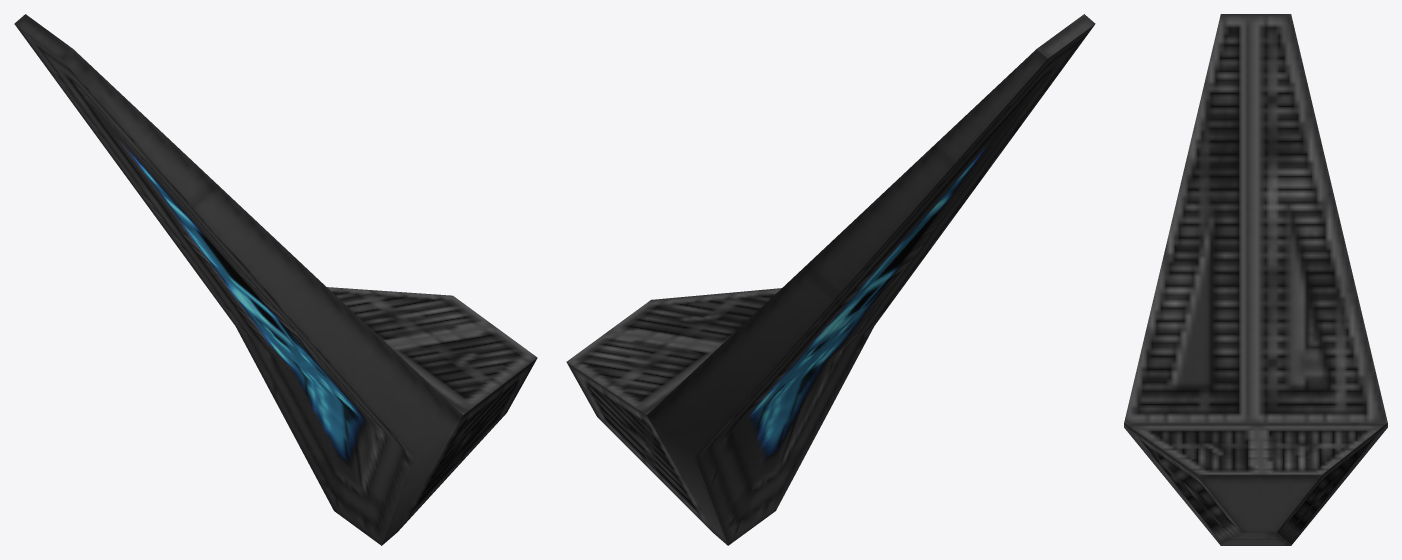
File: BFP_JG_EnergyPanel01_UpperRight.FBX
3 renders of one model, left to right at view 1: azimuth 30°, elevation 25°; view 2: azimuth 150°, elevation 25°; view 3: azimuth 270°, elevation 25°, orthographic. The views are drawn at different scales.
Parts seen in each view (by area): view 1: BFP_JG_EnergyPanel01_UpperRight; view 2: BFP_JG_EnergyPanel01_UpperRight; view 3: BFP_JG_EnergyPanel01_UpperRight.
Part boxes in pixels (left/top/right/bottom): BFP_JG_EnergyPanel01_UpperRight: left=14, top=14, right=537, bottom=545; BFP_JG_EnergyPanel01_UpperRight: left=566, top=14, right=1095, bottom=545; BFP_JG_EnergyPanel01_UpperRight: left=1124, top=14, right=1387, bottom=545.
Bounding box in the file's own units: 481 × 572 × 324.
Materials: 1 (1 with a texture image).
